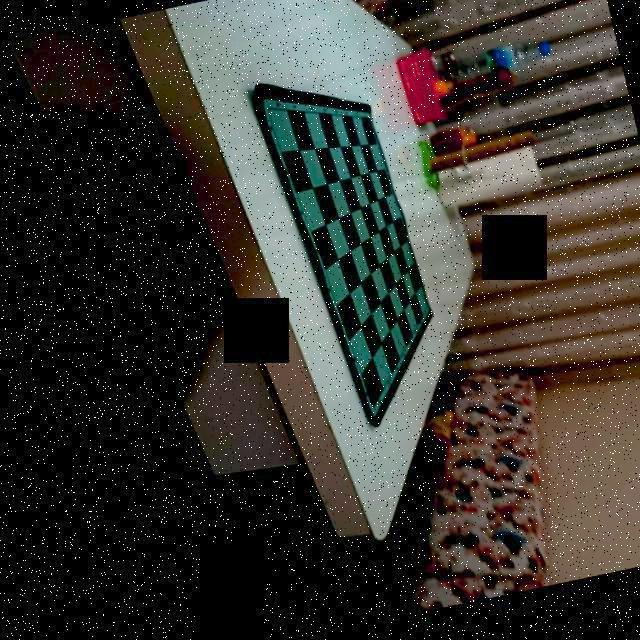chess-table-corners: (254, 98, 282, 124), (356, 398, 376, 422), (412, 305, 431, 324), (358, 114, 376, 130)
